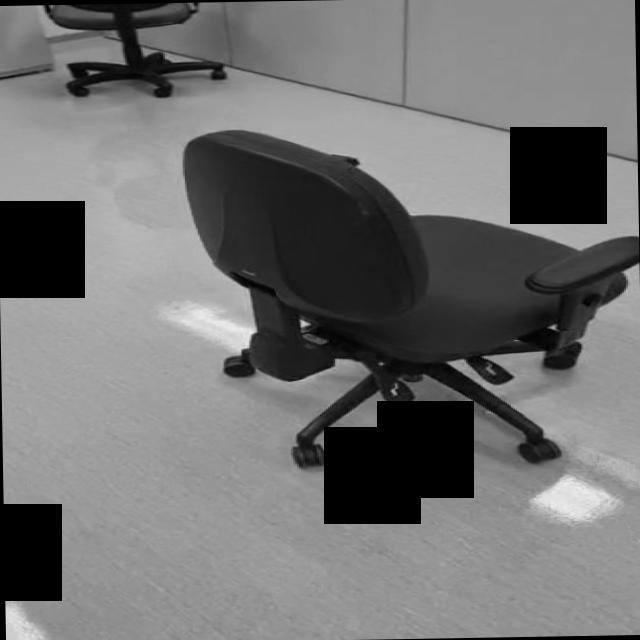chair: (181, 123, 640, 468)
